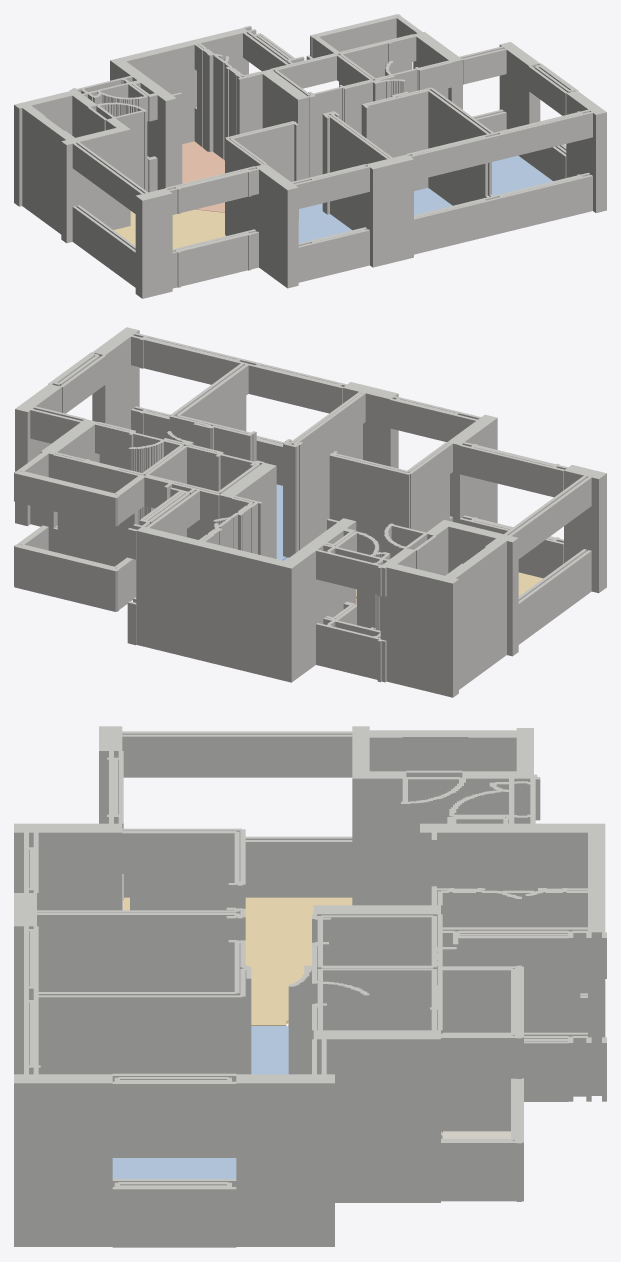
3 renders of one model, top to bottom at view 1: azimuth 30°, elevation 25°; view 2: azimuth 150°, elevation 25°; view 3: azimuth 270°, elevation 25°, orthographic. The views are drawn at different scales.
Visible parts, largest first — view 1: walls, room:living:7, room:bedroom:3, room:kitchen:0, room:bedroom:2, room:bedroom:4; view 2: walls, room:bedroom:4; view 3: walls, room:living:7, room:bedroom:3, room:bedroom:2.
Boxes of the visible parts, bbox=[...] form: walls: bbox=[14, 14, 606, 298]; room:living:7: bbox=[114, 209, 225, 248]; room:bedroom:3: bbox=[492, 155, 552, 195]; room:kitchen:0: bbox=[182, 141, 224, 212]; room:bedroom:2: bbox=[298, 203, 351, 243]; room:bedroom:4: bbox=[414, 188, 452, 214]; walls: bbox=[14, 327, 606, 697]; room:bedroom:4: bbox=[276, 484, 286, 560]; walls: bbox=[14, 726, 606, 1247]; room:living:7: bbox=[124, 897, 352, 1025]; room:bedroom:3: bbox=[112, 1158, 236, 1178]; room:bedroom:2: bbox=[251, 1026, 288, 1074].
Bounding box in the file's own units: 13.12 × 2.8 × 9.2.
